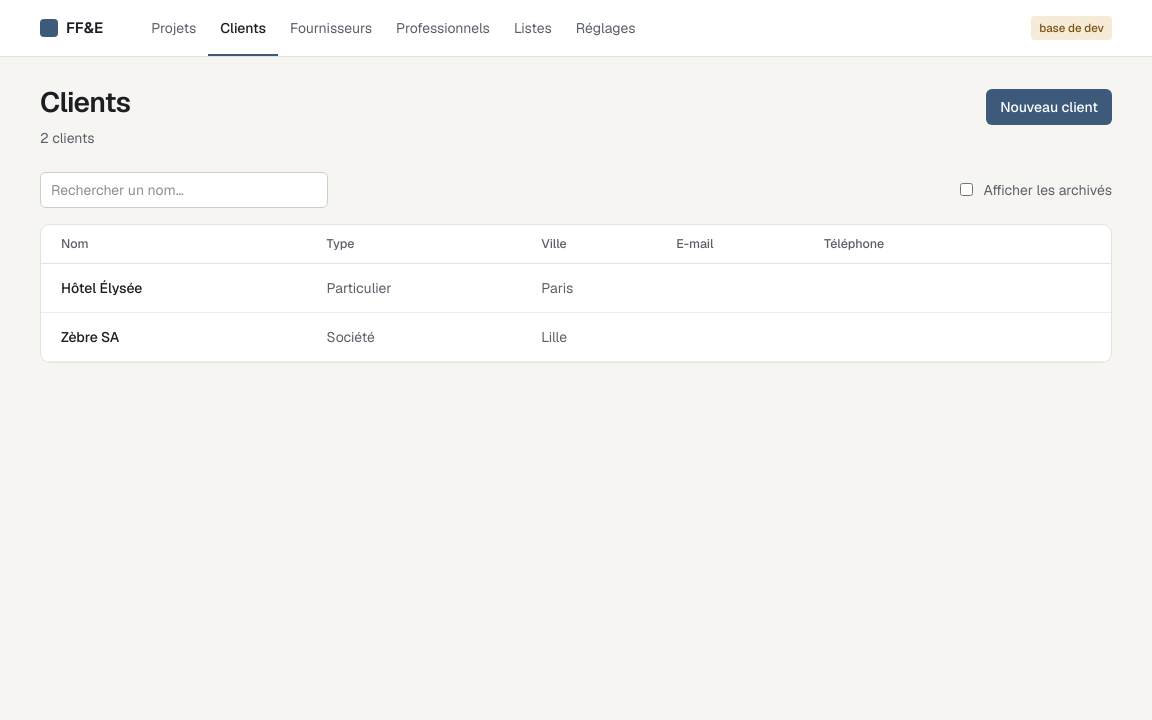
Test: liste des clients › une ligne ouvre la fiche
The image size is (1152, 720).
Click the text "Zèbre SA" at point(90, 337), box x1=61 y1=328 x2=119 y2=346
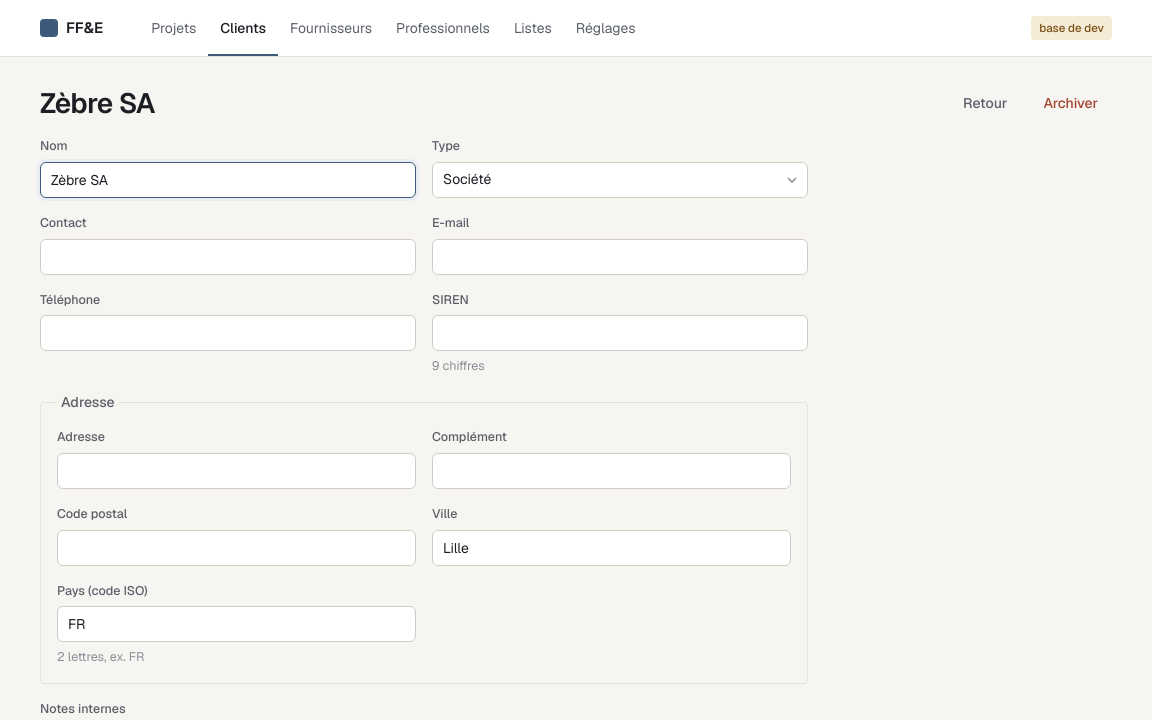
Result: the heading "Zèbre SA" is shown at x1=40 y1=86 x2=155 y2=120
